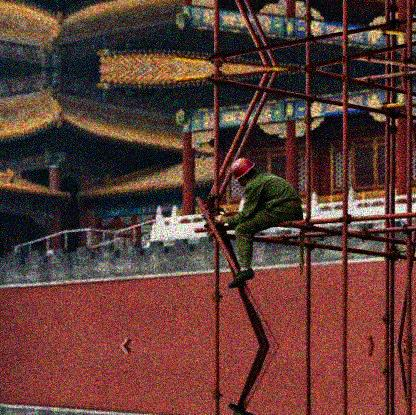helmet: (231, 157, 256, 187)
